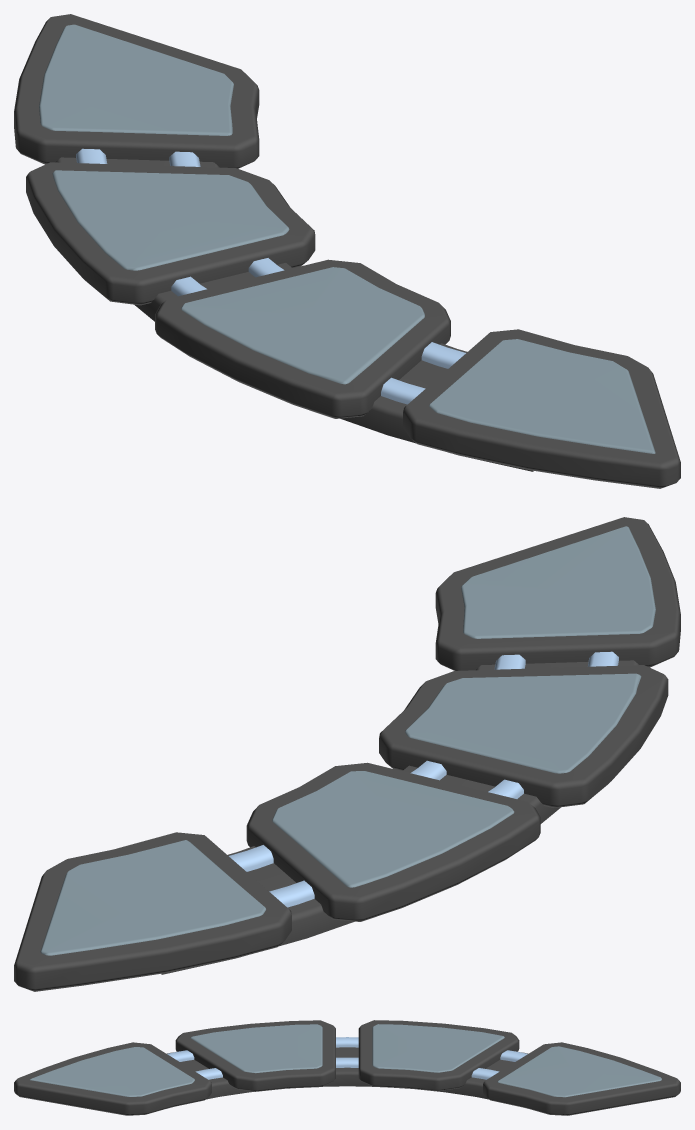
File: platform_009.fbx
The picture shows the model from 3 angles, top to bottom: view 1: azimuth 30°, elevation 25°; view 2: azimuth 150°, elevation 25°; view 3: azimuth 270°, elevation 25°; orthographic projection. The views are drawn at different scales.
Visible parts, largest first — view 1: platform_009; view 2: platform_009; view 3: platform_009.
Part boxes in pixels (x1,y1,x2,y2): platform_009: (14, 14, 680, 488); platform_009: (14, 517, 680, 991); platform_009: (14, 1020, 680, 1115).
Bounding box in the file's own units: 1296 × 4352 × 170.
